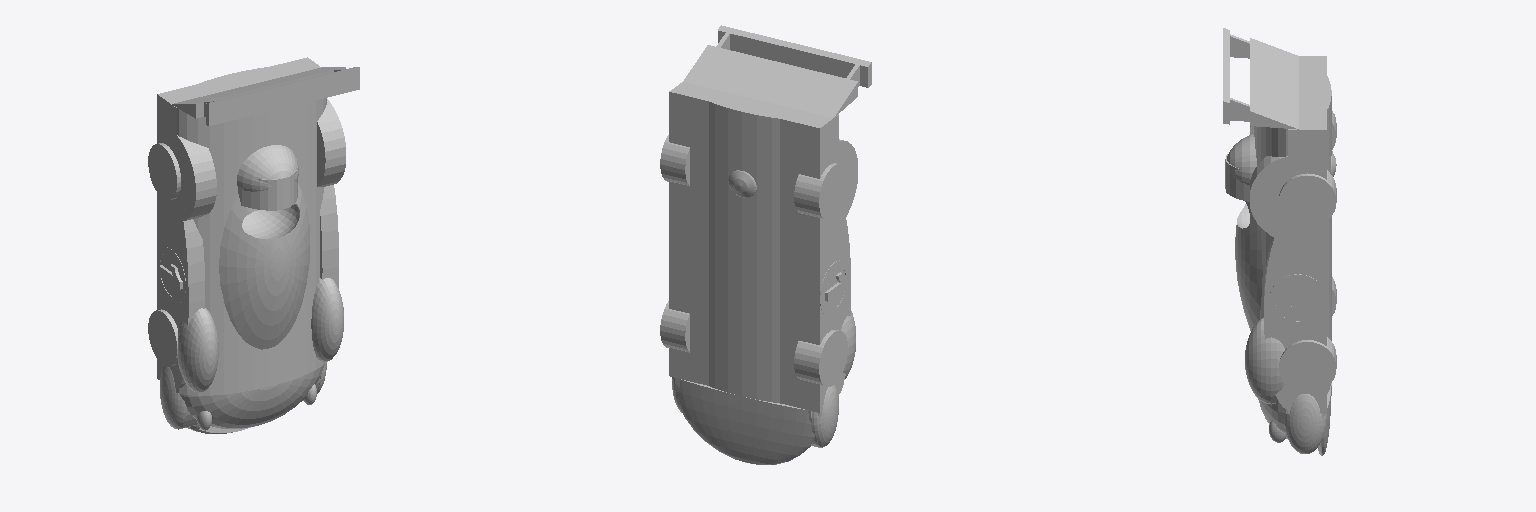
File: car.obj
3 views of the same model, side by side, from view 1: azimuth 30°, elevation 25°; view 2: azimuth 150°, elevation 25°; view 3: azimuth 270°, elevation 25° (orthographic).
Visible parts, largest first — view 1: obj_0; view 2: obj_0; view 3: obj_0.
Part boxes in pixels (x1,y1,x2,y2): obj_0: (148, 57, 359, 433); obj_0: (660, 25, 871, 464); obj_0: (1223, 28, 1336, 455).
Bounding box in the file's own units: 38 × 87.51 × 23.44.